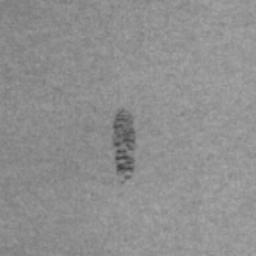Secondary rust skin: (111, 107, 137, 181)
